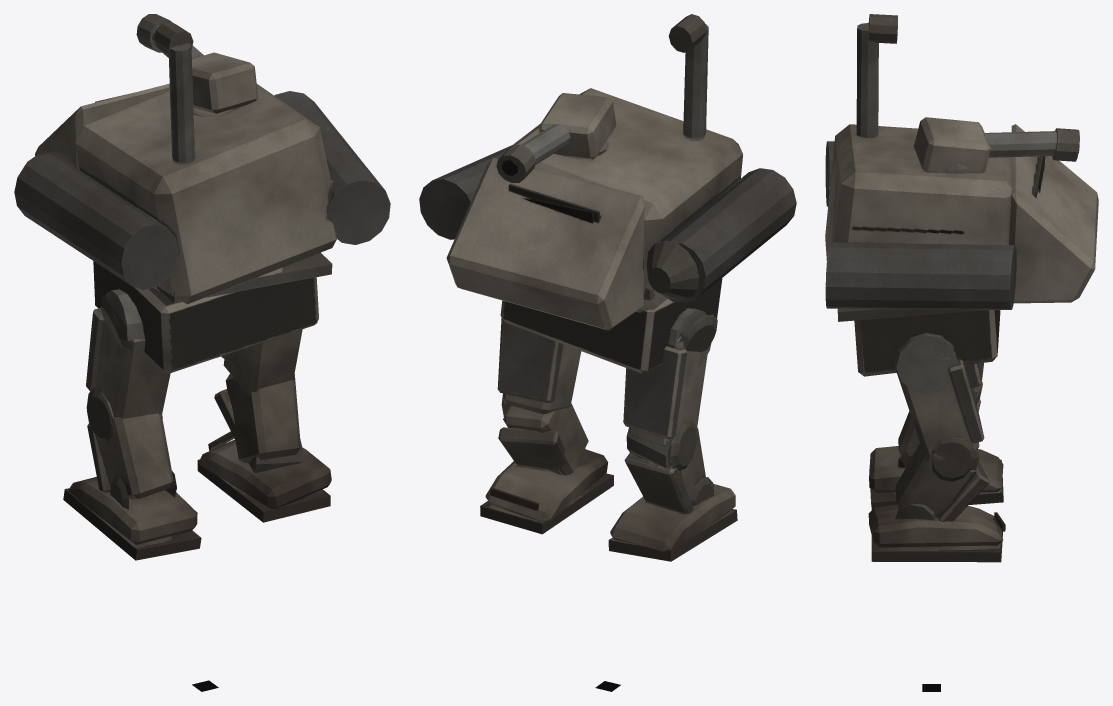
The model's file is ord_mariner_wreck.fbx.
3 renders of one model, left to right at view 1: azimuth 30°, elevation 25°; view 2: azimuth 150°, elevation 25°; view 3: azimuth 270°, elevation 25°, orthographic. The views are drawn at different scales.
Parts seen in each view (by area): view 1: torso_bar, base_bar, thighL_bar, footL_bar, footR_bar, shinR_bar, shinL_bar, thighR_bar; view 2: torso_bar, thighL_bar, base_bar, footR_bar, thighR_bar, footL_bar, shinR_bar, shinL_bar; view 3: torso_bar, thighR_bar, footR_bar, base_bar, shinR_bar, footL_bar, shinL_bar, thighL_bar.
Boxes of the visible parts, box(x1,y1,x2,y2) form: torso_bar: box(14, 14, 390, 304); base_bar: box(93, 261, 318, 373); thighL_bar: box(86, 289, 170, 441); footL_bar: box(63, 477, 201, 560); footR_bar: box(197, 431, 331, 522); shinR_bar: box(214, 373, 302, 473); shinL_bar: box(87, 413, 176, 509); thighR_bar: box(221, 329, 302, 395); torso_bar: box(419, 14, 796, 330); thighL_bar: box(623, 308, 717, 470); base_bar: box(500, 278, 722, 373); footR_bar: box(480, 449, 613, 534); thighR_bar: box(497, 318, 581, 420); footL_bar: box(608, 484, 737, 561); shinR_bar: box(498, 403, 588, 475); shinL_bar: box(624, 427, 713, 513); torso_bar: box(825, 14, 1098, 321); thighR_bar: box(895, 333, 984, 481); footR_bar: box(868, 505, 1005, 562); base_bar: box(854, 310, 1000, 376); shinR_bar: box(895, 443, 989, 521); footL_bar: box(869, 446, 1003, 509); shinL_bar: box(898, 398, 980, 467); thighL_bar: box(965, 363, 983, 404).
Size of the model in its own units: 348 by 762 by 292.
2 materials, 2 textured.
